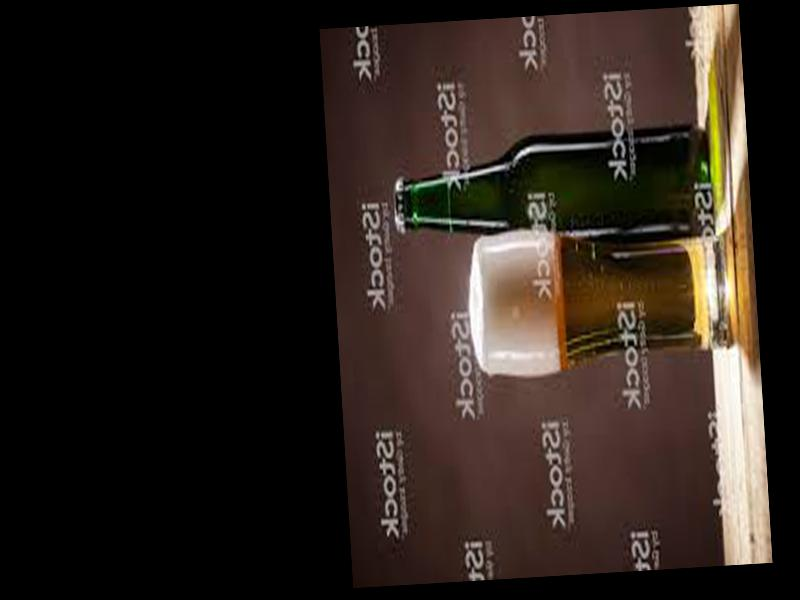Beer: (390, 122, 716, 258)
